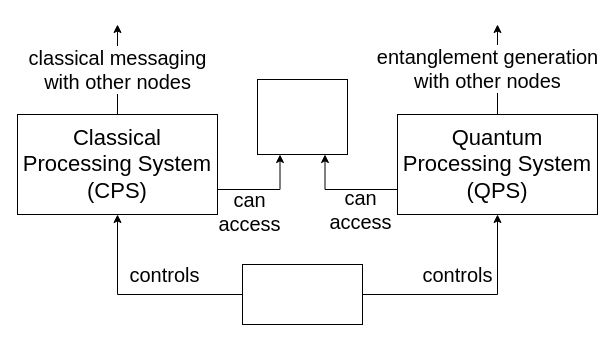
Some shapes in this 615 by 342 pixel diagram are drawn without their labels. Each missing label, with the centre of its shape:
Scheduler: point (302, 294)
Shared Memory: point (302, 116)
